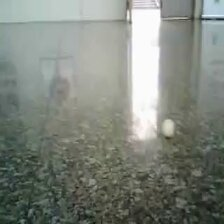w: (160, 118, 178, 139)
